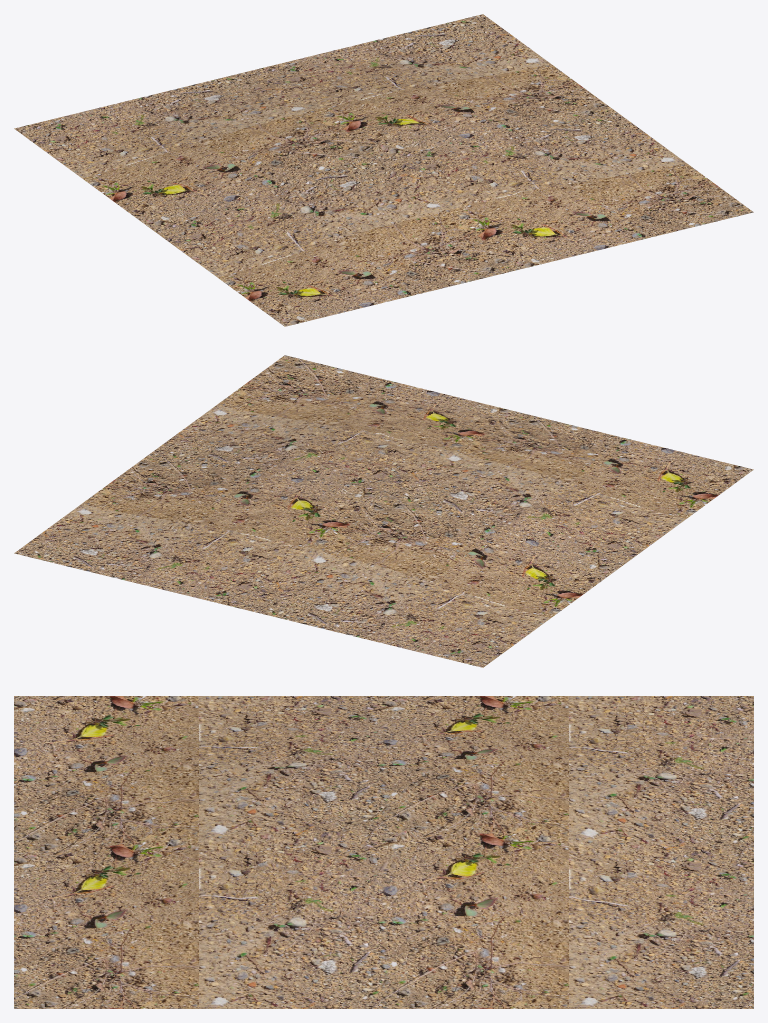
File: ground.gltf
3 renders of one model, top to bottom at view 1: azimuth 30°, elevation 25°; view 2: azimuth 150°, elevation 25°; view 3: azimuth 270°, elevation 25°, orthographic. The views are drawn at different scales.
Visible parts, largest first — view 1: Landscape; view 2: Landscape; view 3: Landscape.
Boxes of the visible parts, x1,y1,x2,y2 form: Landscape: [14, 14, 753, 326]; Landscape: [14, 355, 753, 667]; Landscape: [14, 696, 753, 1008].
Size of the model in its own units: 2 by 0.0749 by 2.
Materials: 1 (1 with a texture image).
